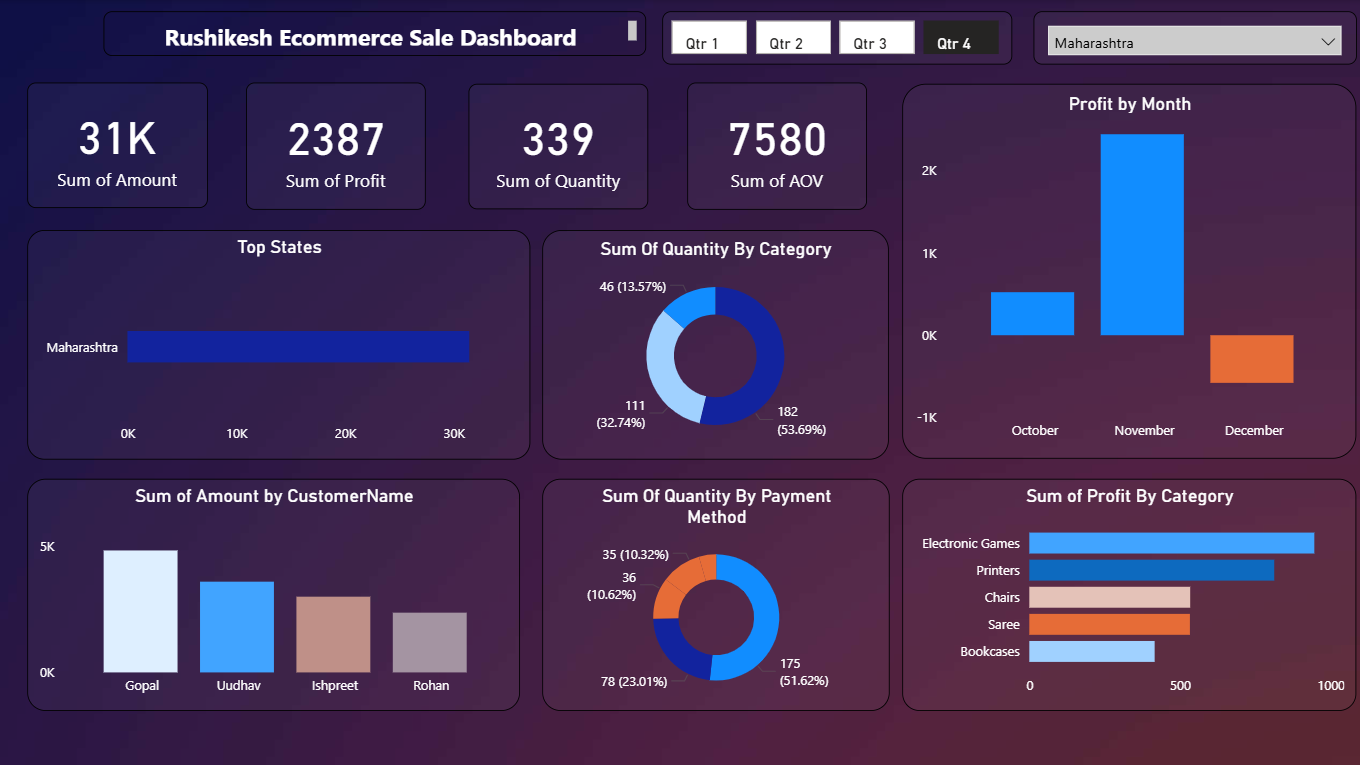

Layout of this report page (visuals, bound fields, positions):
{"tool":"powerbi","page":{"name":"Page 1","canvas":[1280,720],"ordinal":0},"visuals":[{"type":"columnChart","title":"Profit by Month","fields":{"Category":["Orders.Order Date.Variation.Date Hierarchy.Month"],"Y":["Sum(Details.Profit)"]},"box":[848.1,78.4,422.3,348.7],"z":0},{"type":"textbox","box":[105.2,11,505,41.6],"z":1000},{"type":"clusteredBarChart","title":"Sum of Profit By Category","fields":{"Category":["Details.Sub-Category"],"Y":["Sum(Details.Profit)"]},"box":[848.1,445.2,422.3,216],"z":2000},{"type":"donutChart","title":"Sum Of Quantity By Category","fields":{"Y":["Sum(Details.Quantity)"],"Category":["Details.Category"]},"box":[512.7,213.5,322.1,213.5],"z":3000},{"type":"donutChart","title":"Sum Of Quantity By Payment Method","fields":{"Y":["Sum(Details.Quantity)"],"Category":["Details.PaymentMode"]},"box":[512.7,445.2,323.3,216],"z":4000},{"type":"card","fields":{"Values":["Sum(Details.Amount)"]},"box":[33.8,77.2,167.7,117],"z":5000},{"type":"card","fields":{"Values":["Sum(Details.AOV)"]},"box":[647.7,76.8,167.4,118],"z":6000},{"type":"card","fields":{"Values":["Sum(Details.Quantity)"]},"box":[444.6,78.2,167.4,116.6],"z":7000},{"type":"card","fields":{"Values":["Sum(Details.Profit)"]},"box":[237.4,76.8,167.4,118],"z":8000},{"type":"clusteredBarChart","title":"Top States","fields":{"Y":["Sum(Details.Amount)"],"Category":["Orders.State"]},"box":[33.8,213.5,468.1,213.5],"z":9000},{"type":"columnChart","fields":{"Category":["Orders.CustomerName"],"Y":["Sum(Details.Amount)"]},"box":[33.8,445.2,458.4,216],"z":10000},{"type":"advancedSlicerVisual","fields":{"Values":["Orders.Order Date.Variation.Date Hierarchy.Quarter"]},"box":[624.4,11,325.2,49.4],"z":11000},{"type":"slicer","fields":{"Values":["Orders.State"]},"box":[970.2,11,300.5,49.4],"z":12000}]}

Visuals, with their boxes in screenshot pixels (x1, y1, x2, y2), scaled from the page's 1280x720 canvas onto the 1360x765 screenshot:
"Profit by Month" columnChart: detection(901, 83, 1350, 454)
textbox: detection(112, 12, 648, 56)
"Sum of Profit By Category" clusteredBarChart: detection(901, 473, 1350, 703)
"Sum Of Quantity By Category" donutChart: detection(545, 227, 887, 454)
"Sum Of Quantity By Payment Method" donutChart: detection(545, 473, 888, 703)
card - Sum(Details.Amount): detection(36, 82, 214, 206)
card - Sum(Details.AOV): detection(688, 82, 866, 207)
card - Sum(Details.Quantity): detection(472, 83, 650, 207)
card - Sum(Details.Profit): detection(252, 82, 430, 207)
"Top States" clusteredBarChart: detection(36, 227, 533, 454)
columnChart - Orders.CustomerName x Sum(Details.Amount): detection(36, 473, 523, 703)
advancedSlicerVisual - Orders.Order Date.Variation.Date Hierarchy.Quarter: detection(663, 12, 1009, 64)
slicer - Orders.State: detection(1031, 12, 1350, 64)
